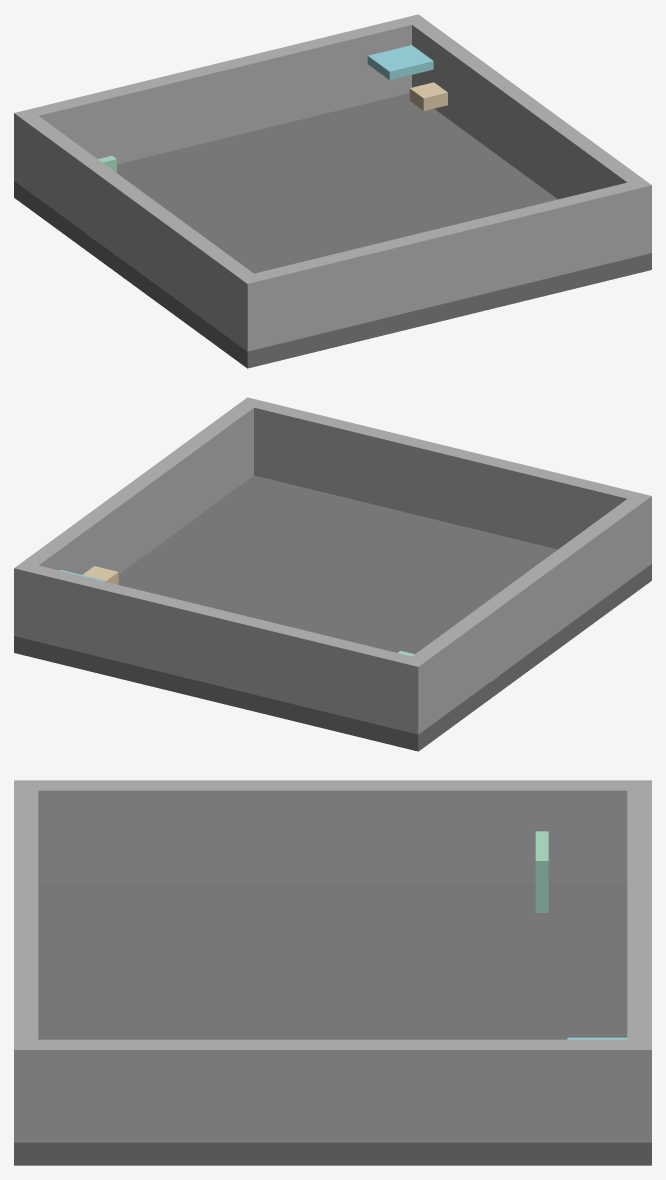
Rendered from Playground2.0.fbx.
The picture shows the model from 3 angles, top to bottom: view 1: azimuth 30°, elevation 25°; view 2: azimuth 150°, elevation 25°; view 3: azimuth 270°, elevation 25°; orthographic projection. The views are drawn at different scales.
Parts seen in each view (by area): view 1: Cube.005, Cube.006, Cube, Cube.002; view 2: Cube.005, Cube.006; view 3: Cube.005, Cube.006, Cube.001.
Part boxes in pixels (left/top/right/bottom): Cube.005: left=14, top=14, right=651, bottom=351; Cube.006: left=14, top=93, right=651, bottom=368; Cube: left=367, top=45, right=433, bottom=79; Cube.002: left=409, top=82, right=447, bottom=110; Cube.005: left=14, top=397, right=651, bottom=734; Cube.006: left=14, top=475, right=651, bottom=751; Cube.005: left=14, top=780, right=651, bottom=1142; Cube.006: left=14, top=883, right=651, bottom=1165; Cube.001: left=535, top=831, right=548, bottom=912.
Bounding box in the file's own units: 5000 × 1000 × 5000.
